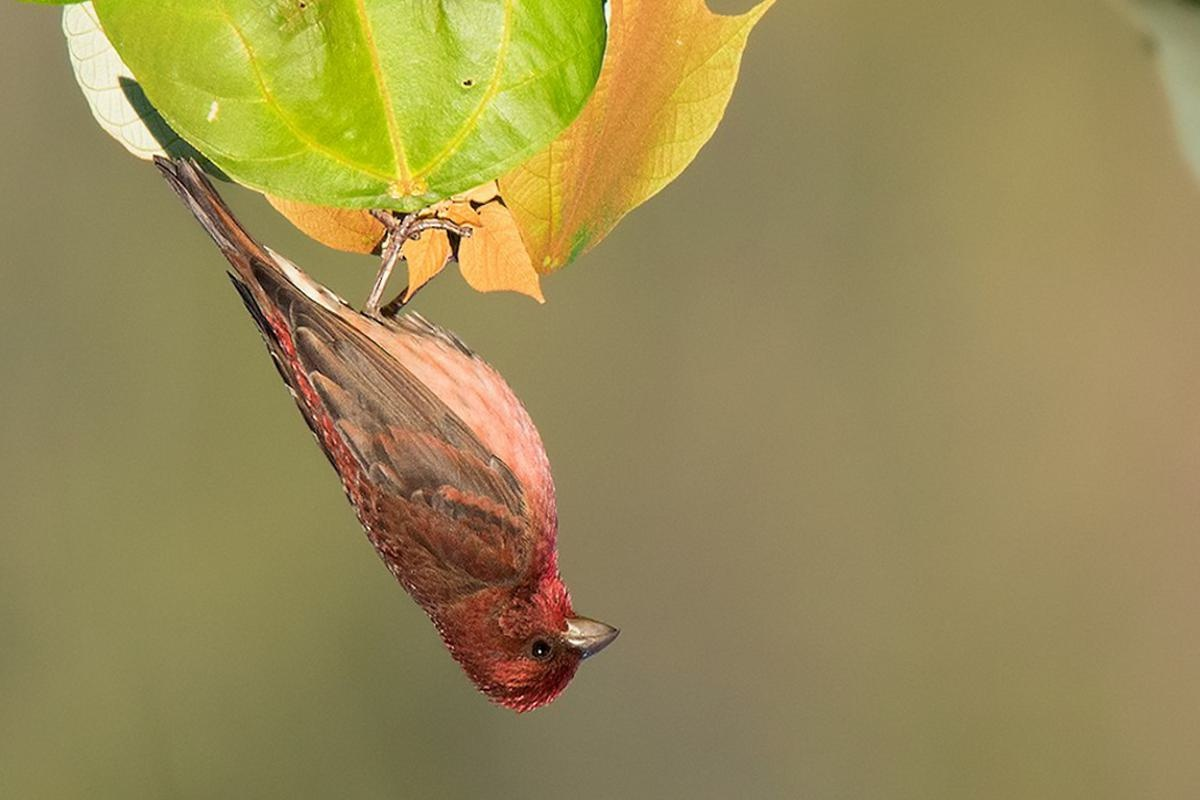rosefinch: (168, 168, 635, 752)
